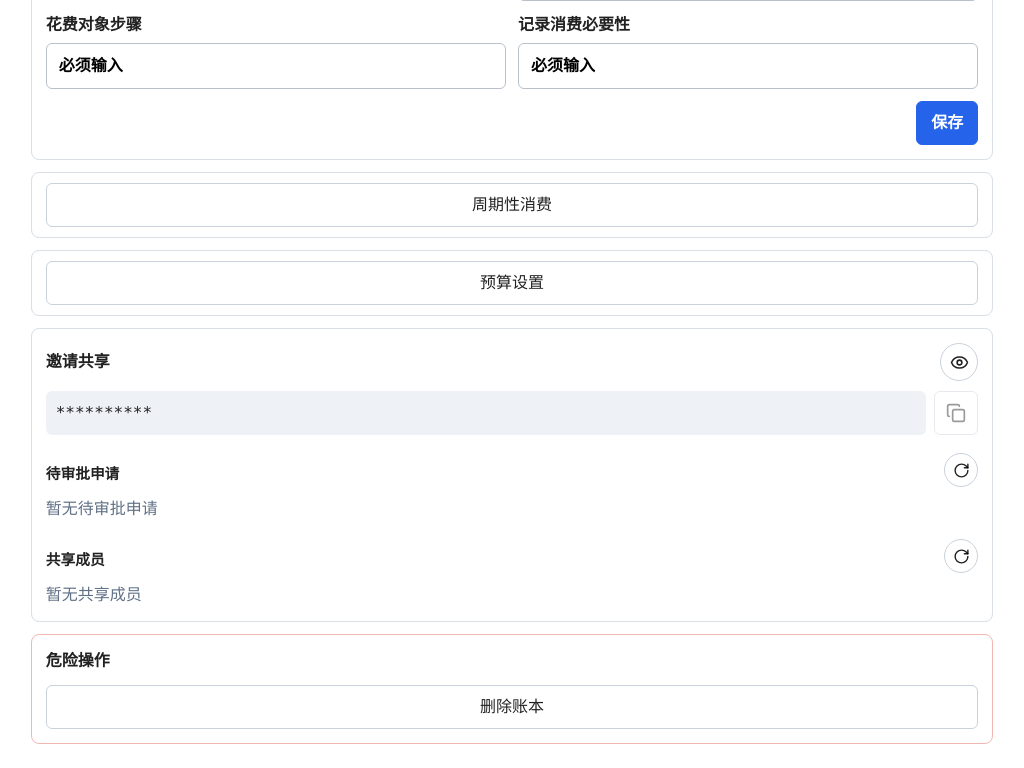
Settings › uses an in-app confirmation dialog for deleting a ledger
This screenshot has width=1024, height=768.
(page scrolled)
What coordinates should you click on to do the following:
click the button "删除账本"
I would click on:
 (512, 707)
Its box is [46, 685, 978, 729].
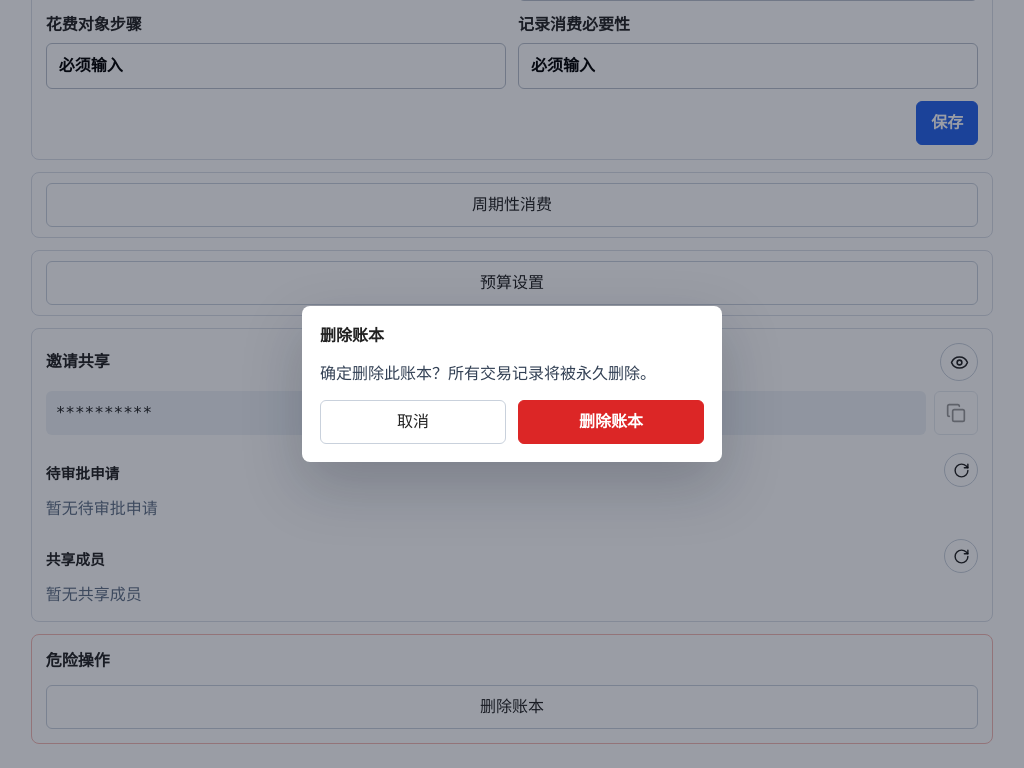
Result: the element with class "modal-backdrop" is shown
Result: the text "确定删除此账本？" is shown at [320, 364, 656, 383]
